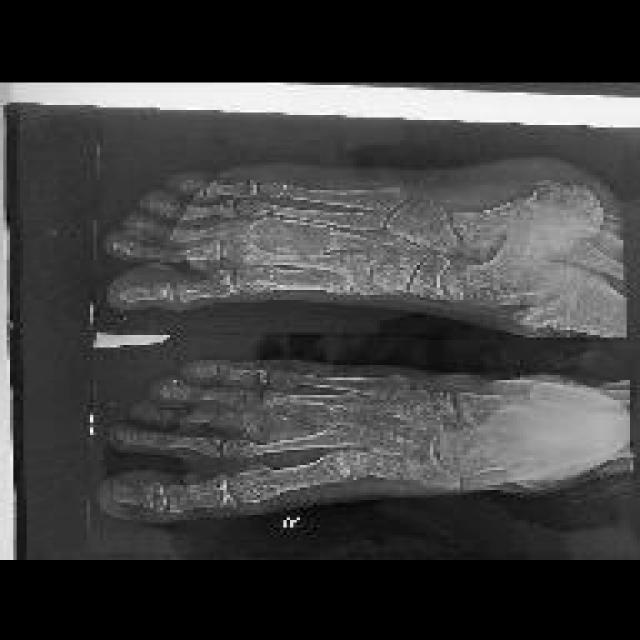bone-cancer: (246, 400, 338, 441), (250, 217, 339, 256)
